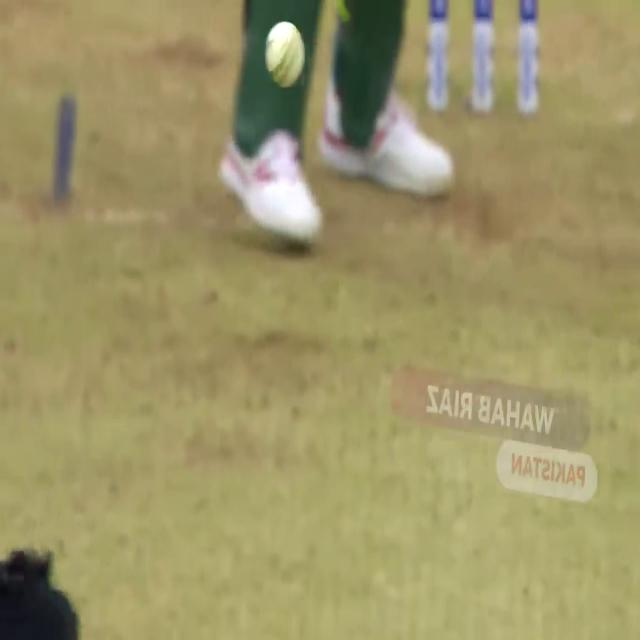ball: (262, 20, 308, 90)
